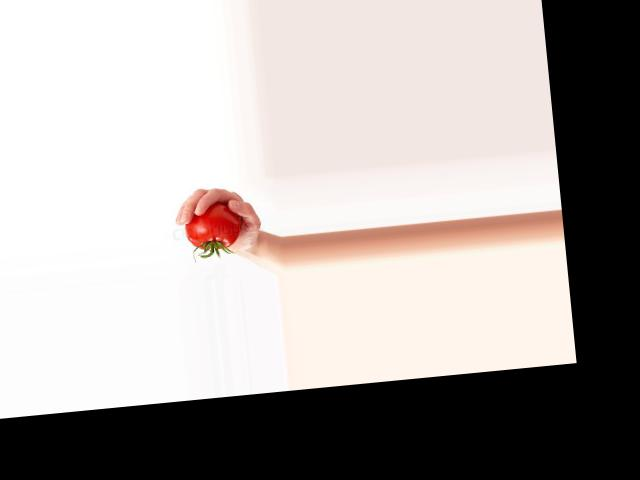tomato: (183, 200, 241, 252)
